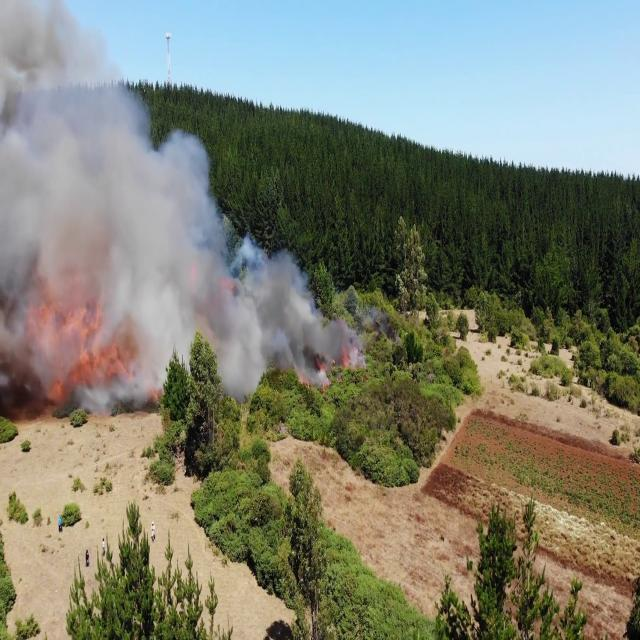Smoke: (0, 0, 194, 414), (178, 212, 354, 394)
